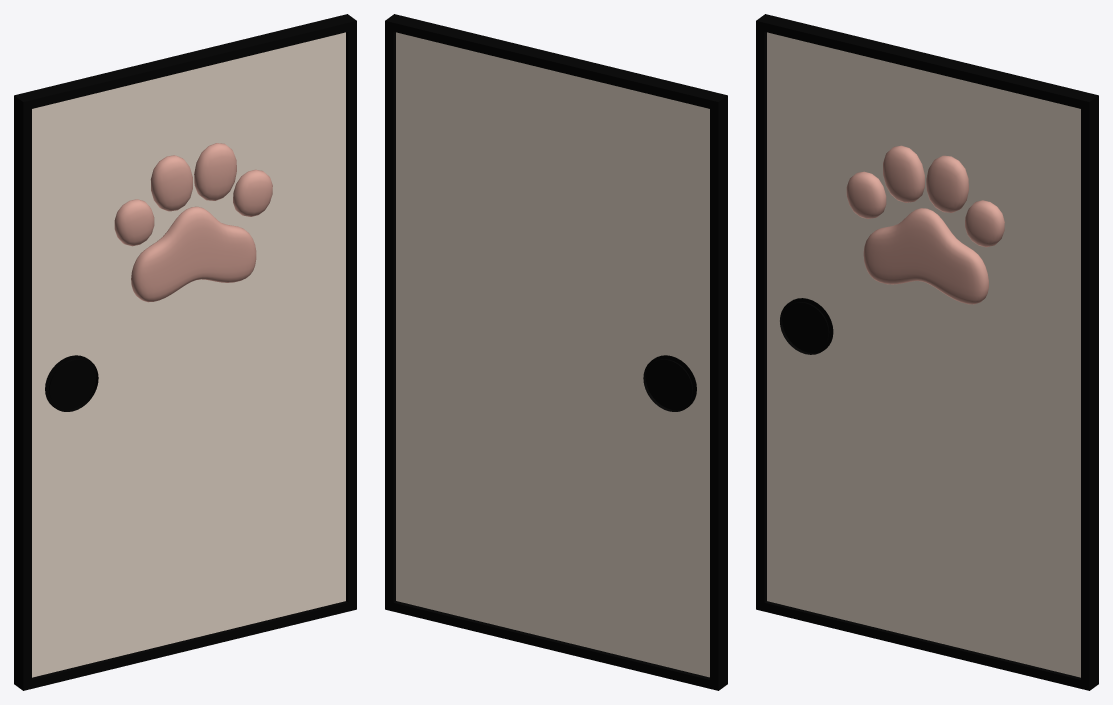
Rendered from door.glb.
3 renders of one model, left to right at view 1: azimuth 30°, elevation 25°; view 2: azimuth 150°, elevation 25°; view 3: azimuth 330°, elevation 25°, orthographic.
Visible parts, largest first — view 1: Cube.020; view 2: Cube.020; view 3: Cube.020.
Boxes of the visible parts, x1,y1,x2,y2 form: Cube.020: (14, 14, 356, 690); Cube.020: (385, 14, 727, 690); Cube.020: (756, 14, 1098, 690).
Bounding box in the file's own units: 0.8373 × 1.41 × 0.0659.
